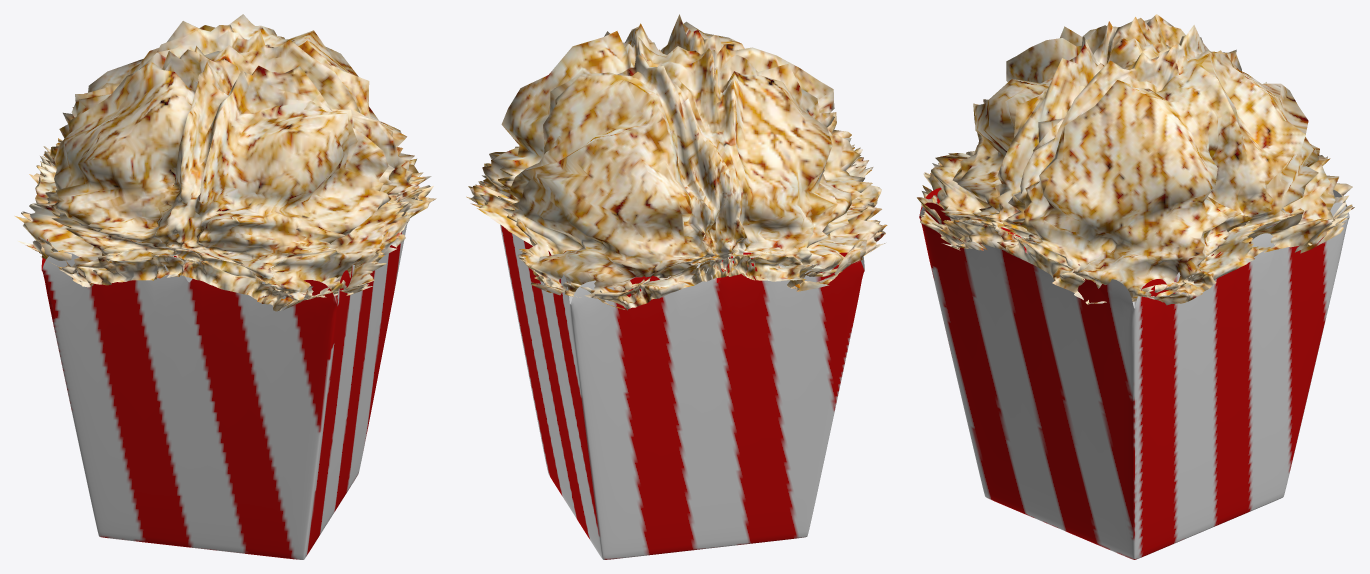
The model's file is popcorn.fbx.
3 renders of one model, left to right at view 1: azimuth 30°, elevation 25°; view 2: azimuth 150°, elevation 25°; view 3: azimuth 270°, elevation 25°, orthographic.
Parts seen in each view (by area): view 1: popcornBeger; view 2: popcornBeger; view 3: popcornBeger.
Boxes of the visible parts, x1,y1,x2,y2 form: popcornBeger: (15, 14, 436, 559); popcornBeger: (466, 14, 887, 559); popcornBeger: (917, 14, 1354, 559).
Size of the model in its own units: 137 by 161 by 138.
Materials: 1 (1 with a texture image).
